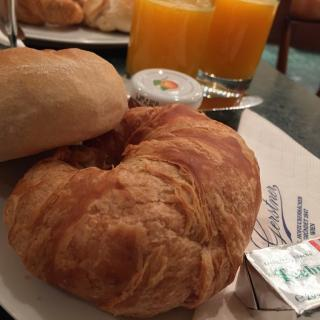Bread: (4, 104, 268, 310), (0, 37, 126, 162), (0, 0, 85, 25)
Croissant: (13, 114, 256, 320)
